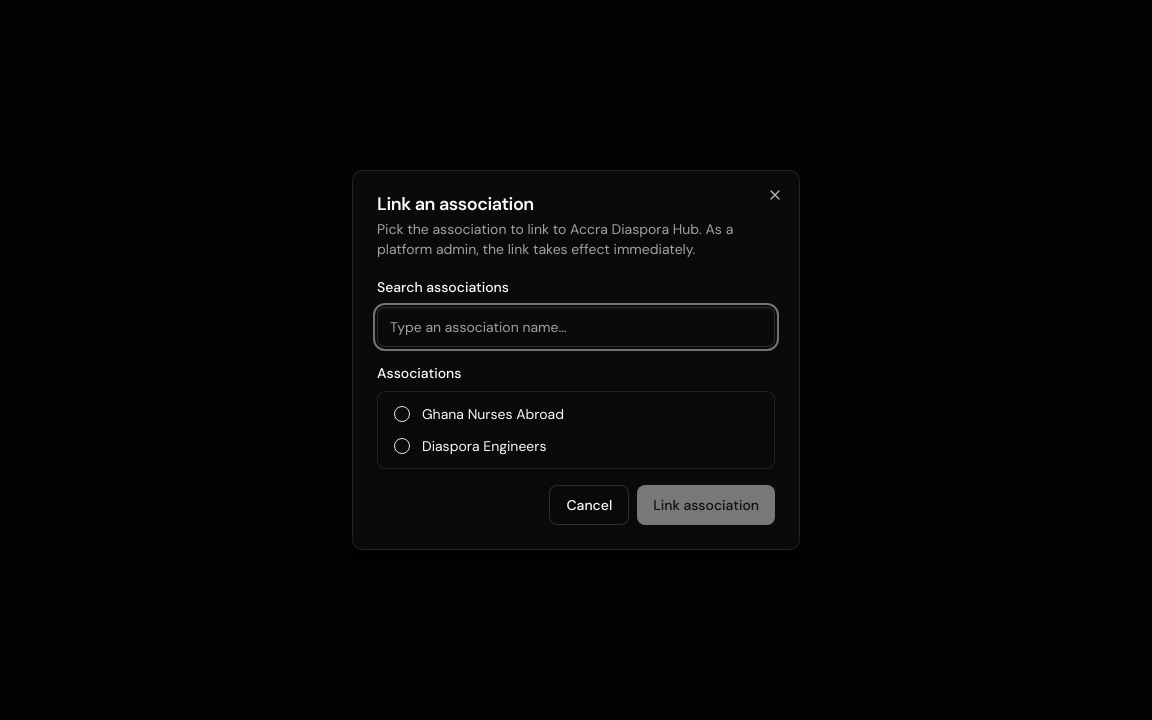
Test case: LinkAssociationsDialog › searches associations by name on the server
Expected: the radio button named "Ghana Nurses Abroad" next to "Ghana Nurses Abroad" is shown, 394,406 -> 410,422
Type "engineers" into the search field labelled "Search associations". click: (576, 327)
box: 377,307 -> 775,347
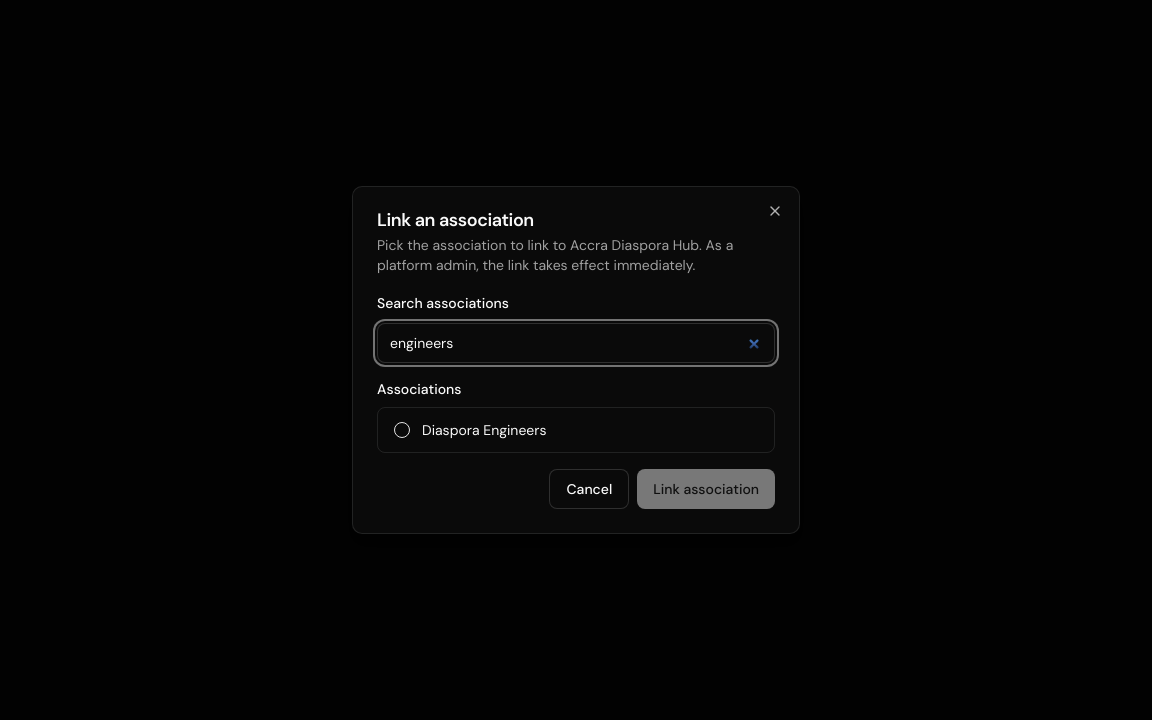
Expected: the radio button named "Diaspora Engineers" is shown, 394,422 -> 410,438
Expected: the label "Ghana Nurses Abroad" is gone
